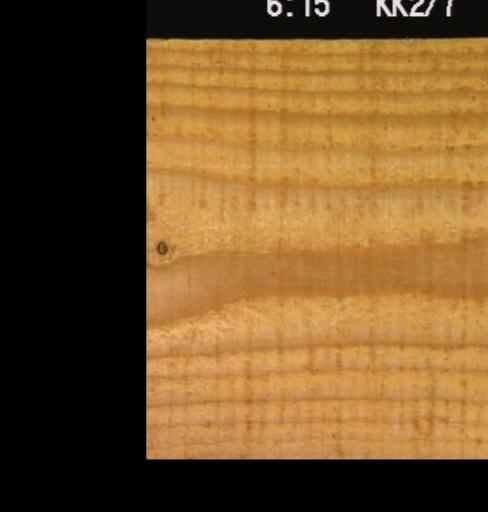dry_knot: (152, 236, 170, 256)
